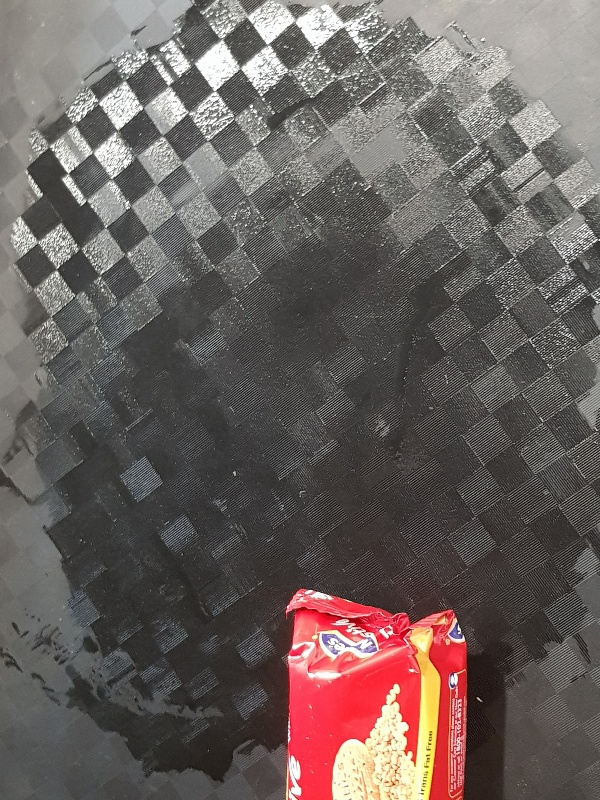Mcvitie's Digestive: (285, 588, 470, 800)
